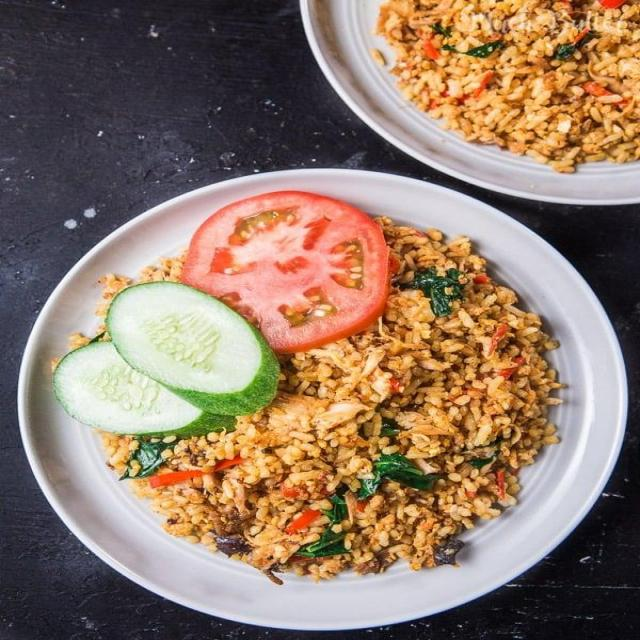Nasi Goreng: (90, 214, 569, 566)
